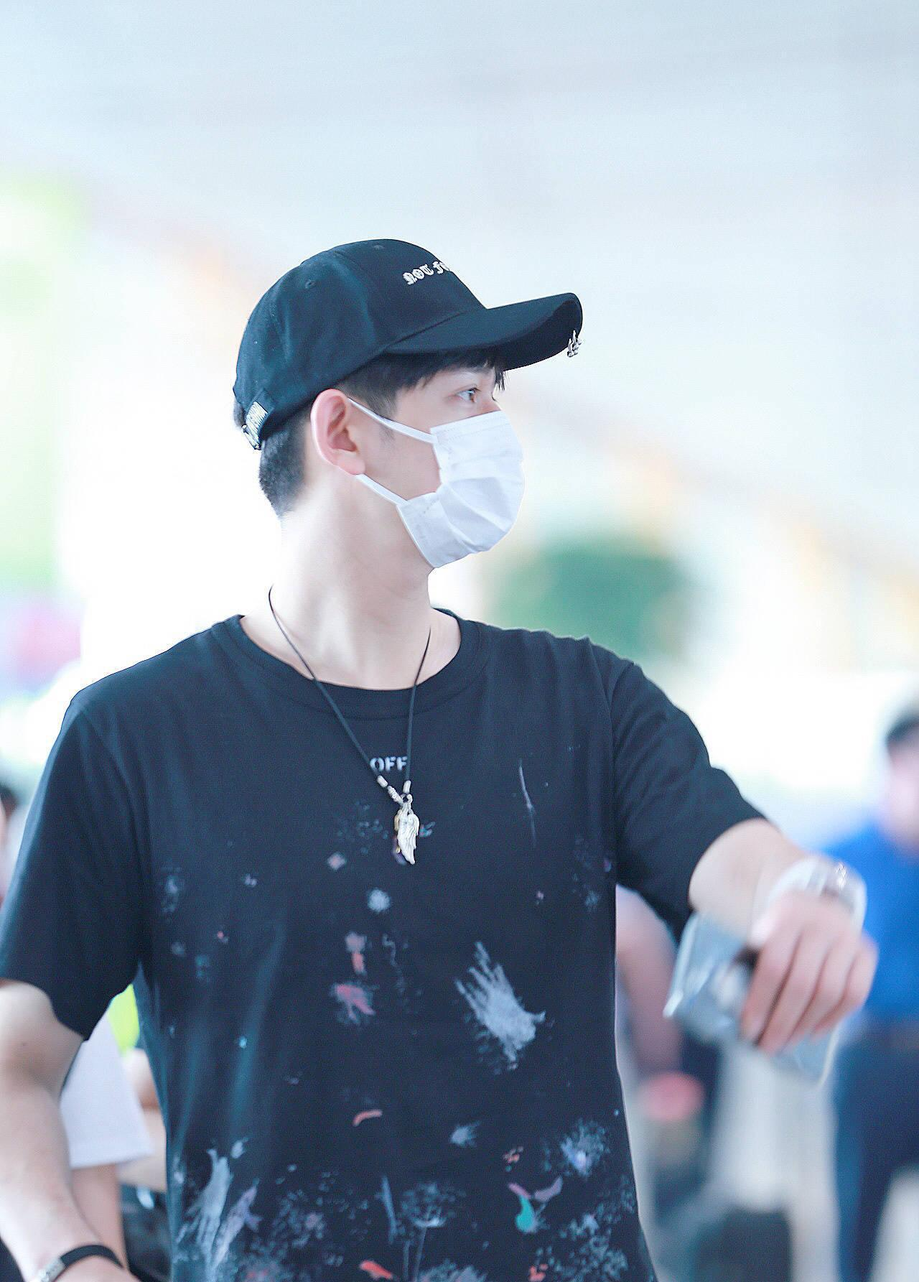OK: (330, 361, 533, 564)
